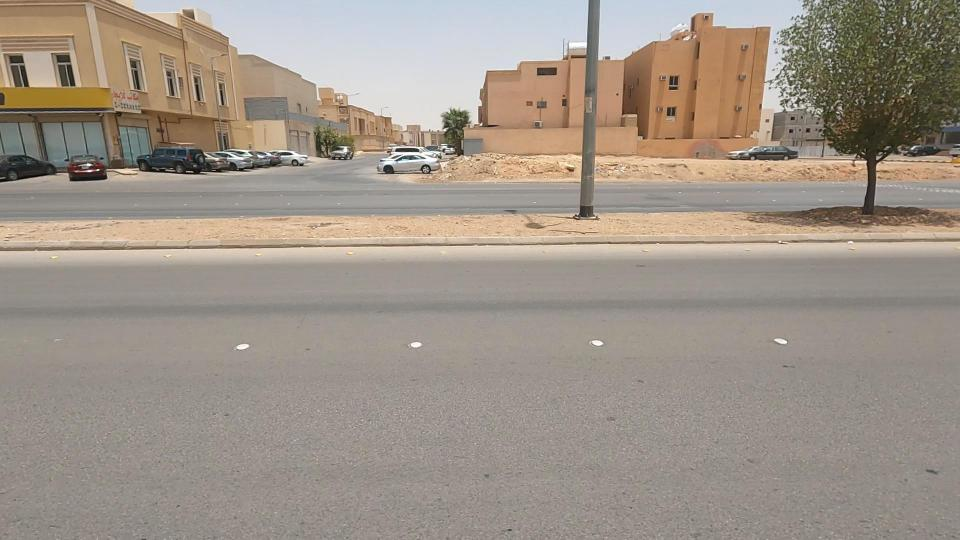CLUTTER_SIDEWALK: (199, 187, 591, 276), (554, 182, 847, 267), (0, 203, 351, 256)
